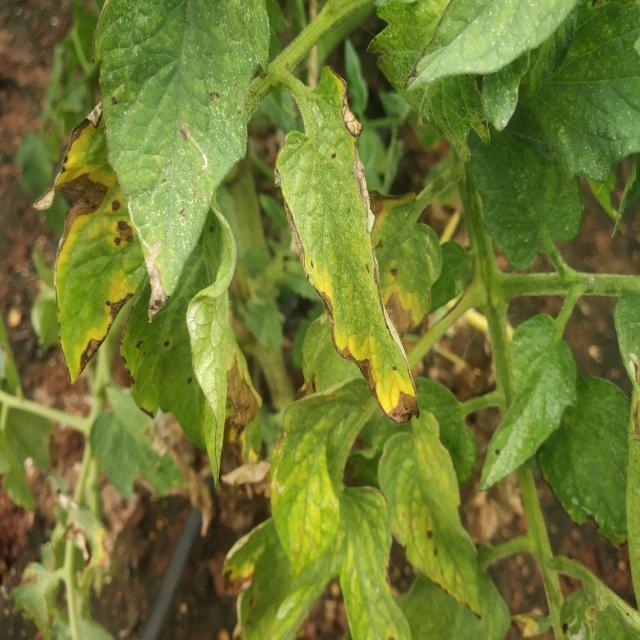Tomato mosaic virus leaf: (268, 61, 424, 429), (29, 96, 143, 392)
